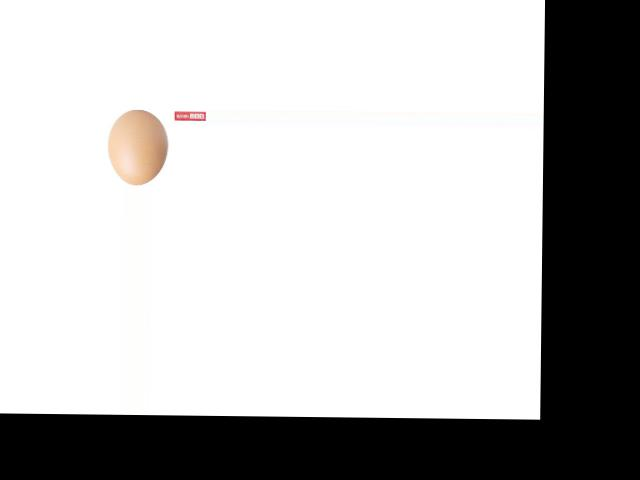egg: (107, 109, 167, 184)
